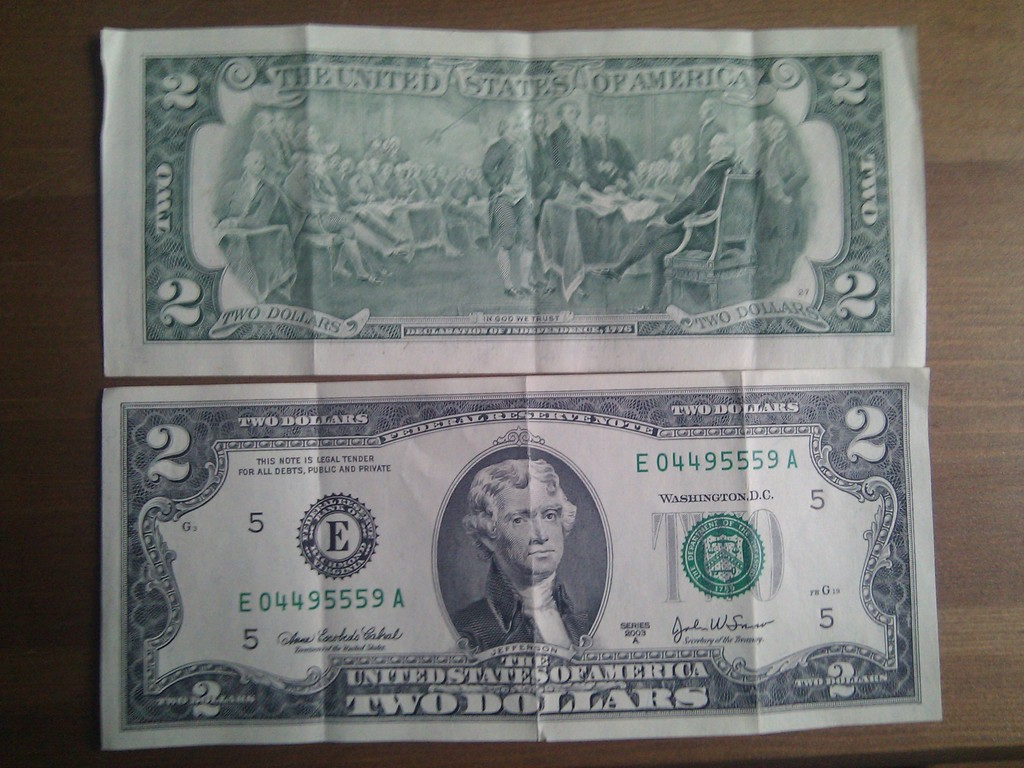Person: (210, 99, 811, 315), (447, 458, 591, 655)
